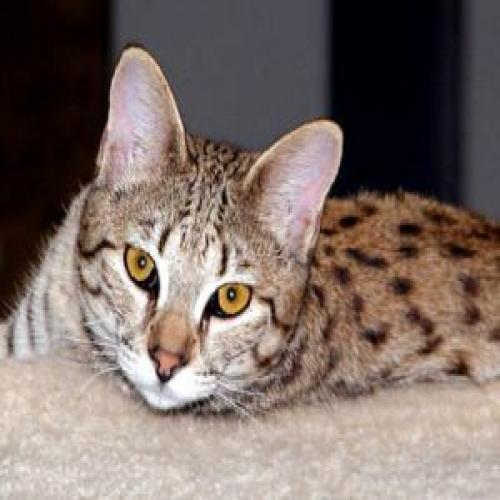bengal: (65, 38, 352, 430)
